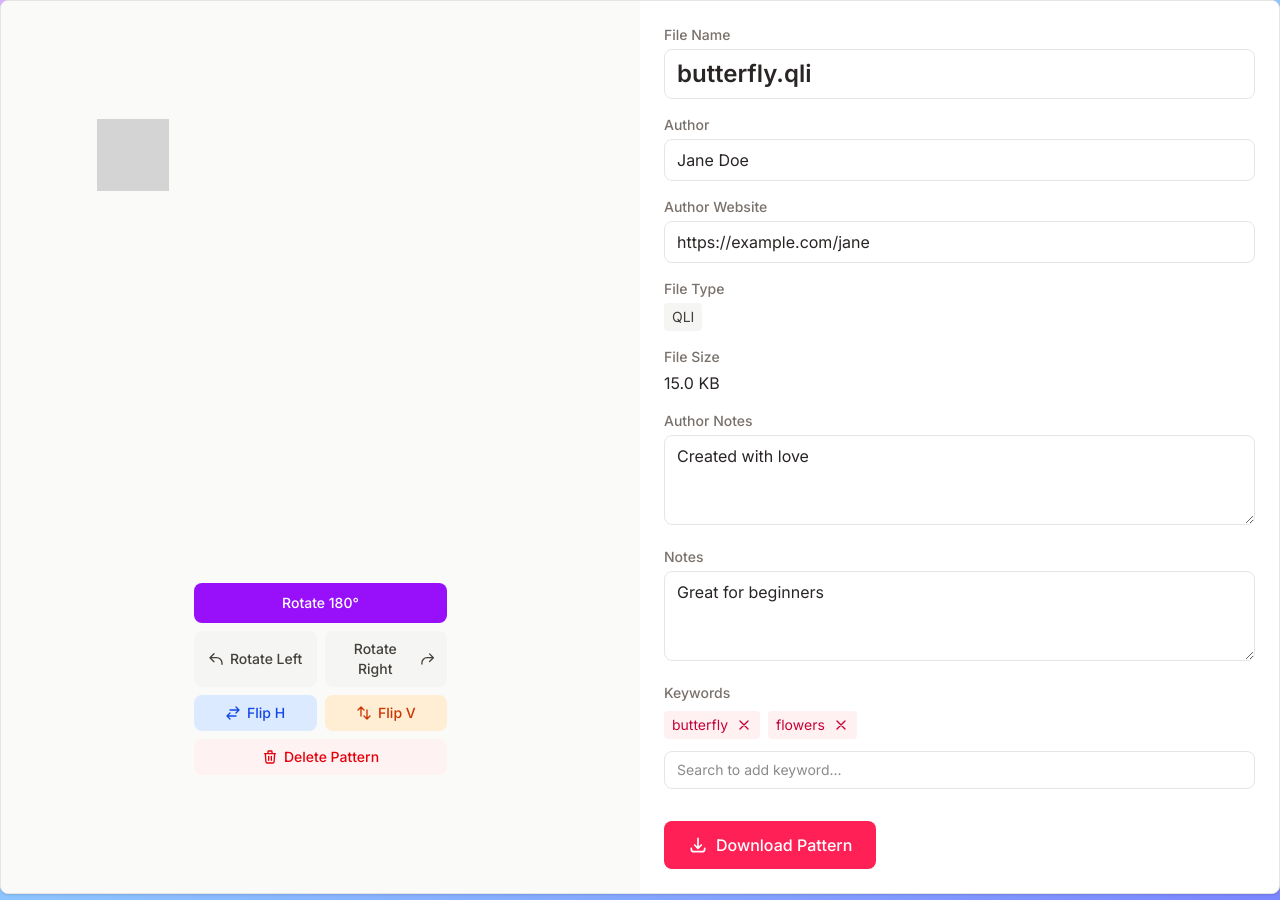
PatternDetailClient › Admin mode - Keywords › shows "No matching keywords" when search has no results
This screenshot has width=1280, height=900.
In the field with placeholder "Search to add keyword...": coordinates (960, 770) [664,751,1255,789], type "zzzznotfound"
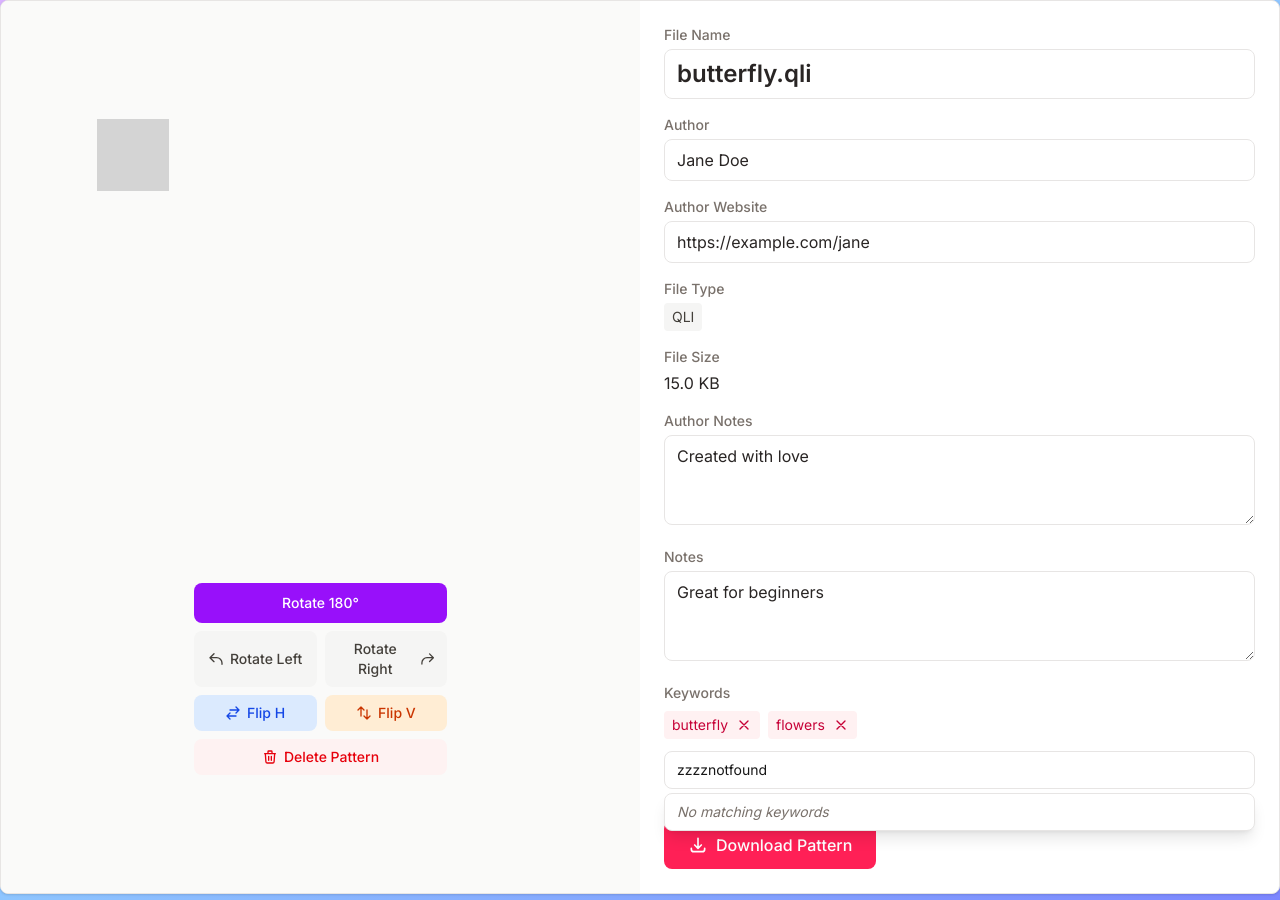
Check: the text "No matching keywords" is shown, box [677,803,829,820]
